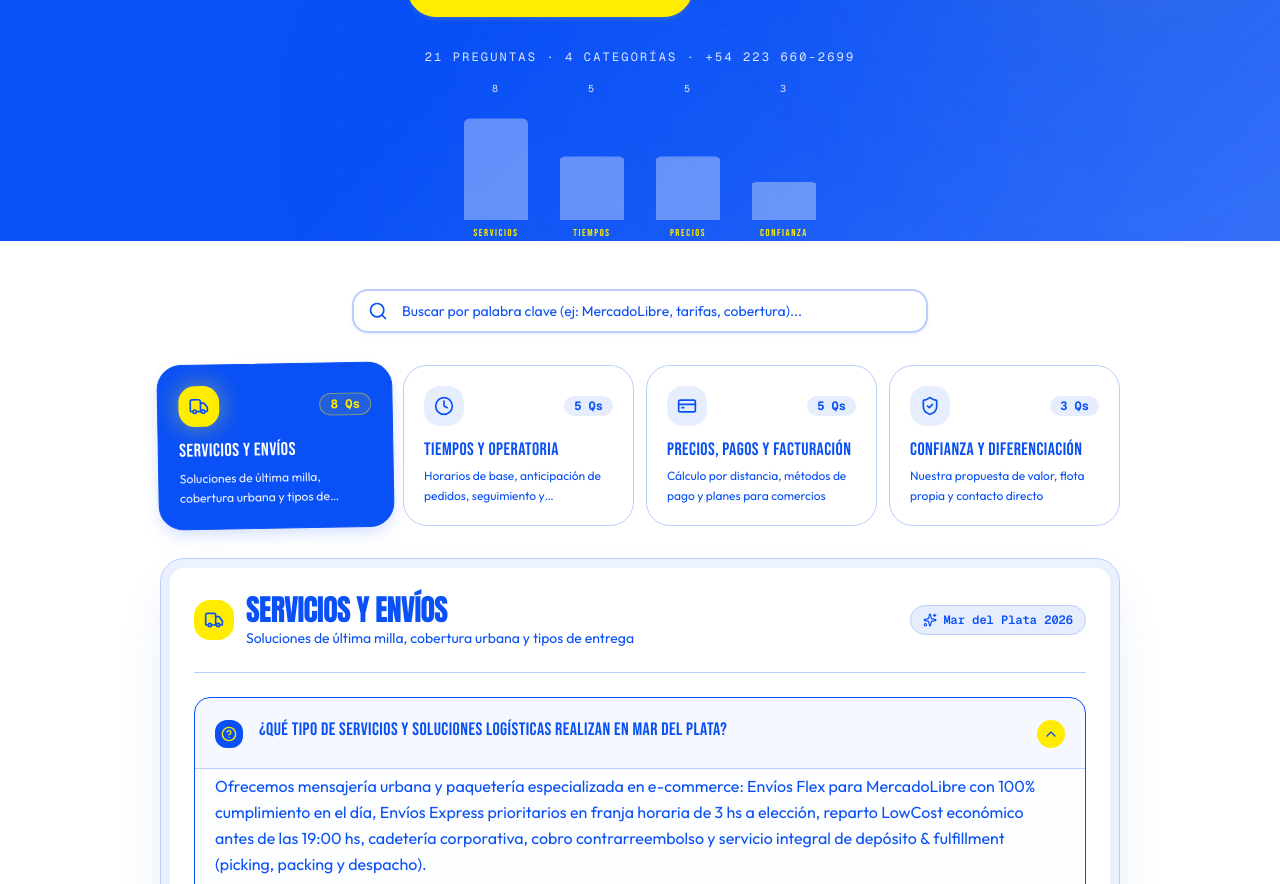
Test: PreguntasFrecuentesPage — Tier 1 & 2 › T1.5: cambia de categoría al hacer clic en el botón "Precios, Pagos y Facturación"
(page scrolled)
Click the heading "Precios, Pagos y Facturación" at (762, 450), box [667,438,856,462]
(page scrolled)
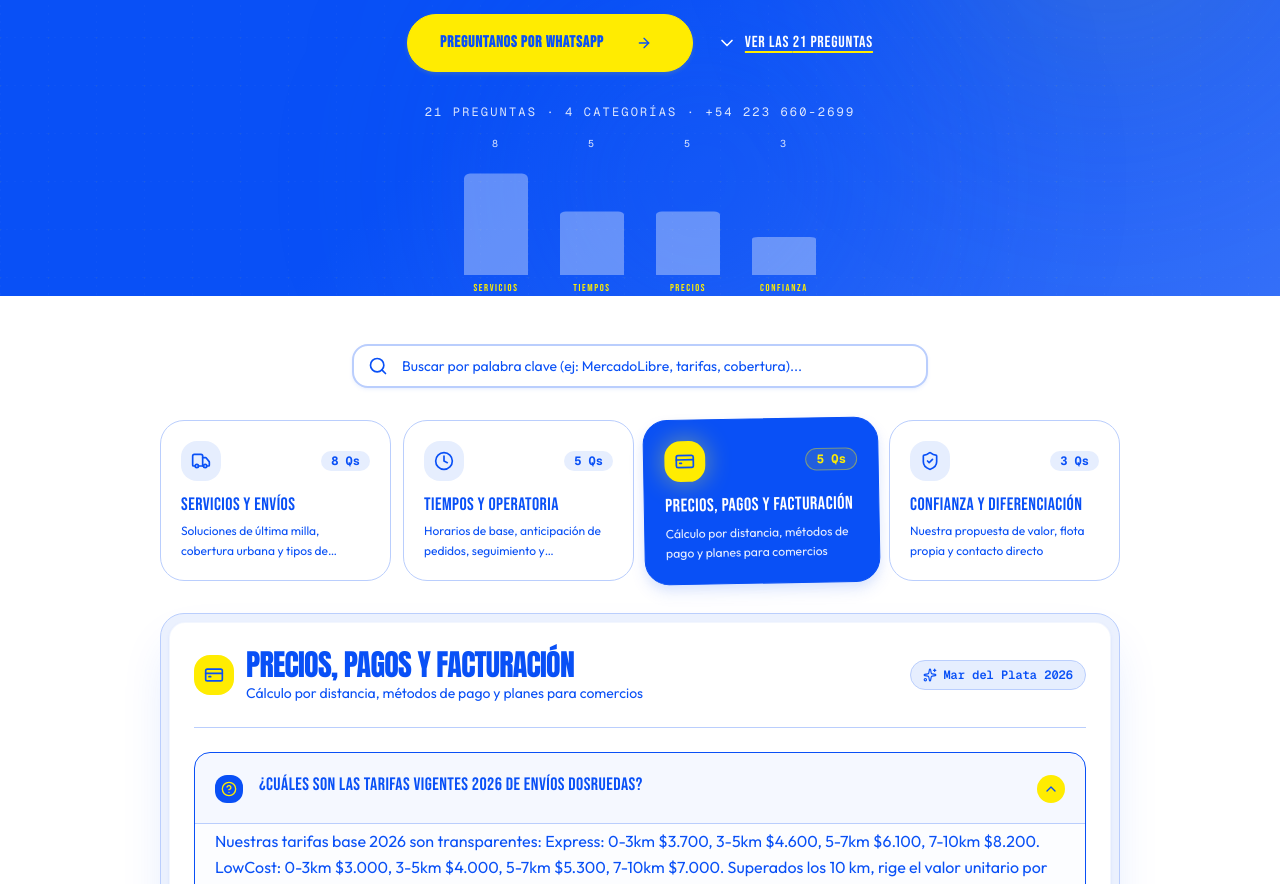
Expected: the heading "¿Cuáles son las tarifas vigentes 2026 de Envíos DosRuedas?" is shown, [259,773,643,798]
Expected: the button "¿Qué tipo de servicios y soluciones logísticas realizan en Mar del Plata?" is gone
